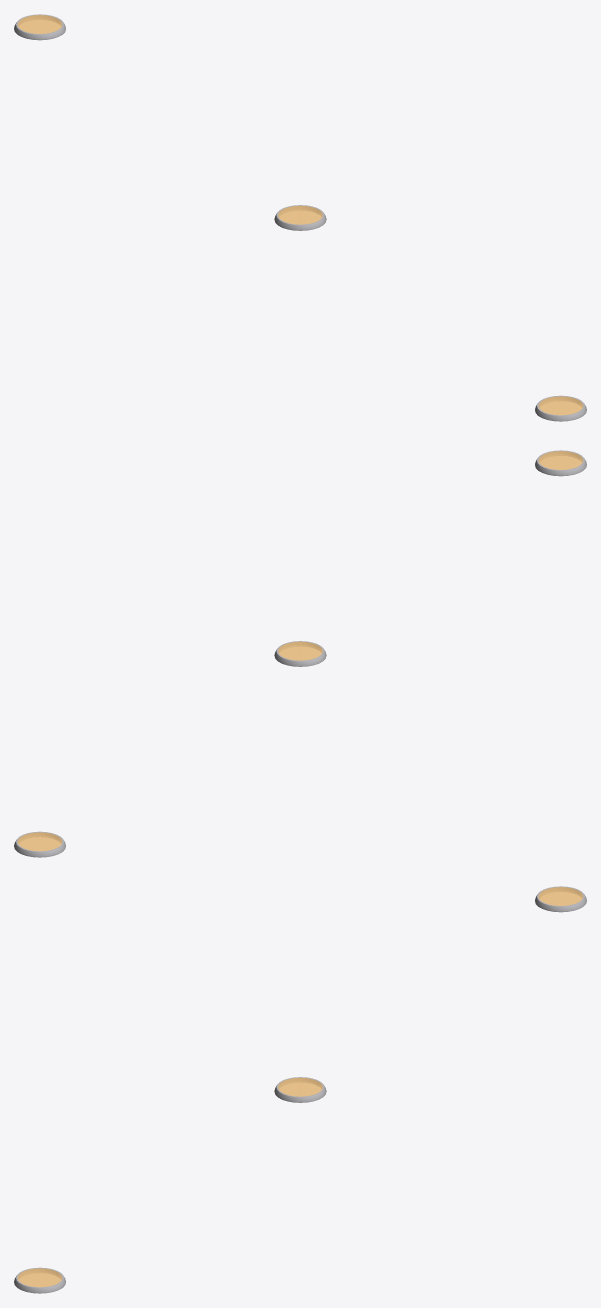
File: Ampoule_Rangee.fbx
3 renders of one model, top to bottom at view 1: azimuth 30°, elevation 25°; view 2: azimuth 150°, elevation 25°; view 3: azimuth 330°, elevation 25°, orthographic.
Visible parts, largest first — view 1: Ampoule_Rangee; view 2: Ampoule_Rangee; view 3: Ampoule_Rangee.
Boxes of the visible parts, x1,y1,x2,y2 form: Ampoule_Rangee: (14,14,586,421); Ampoule_Rangee: (14,450,586,857); Ampoule_Rangee: (14,886,586,1293).
Size of the model in its own units: 0.3 by 0.03 by 6.3.
